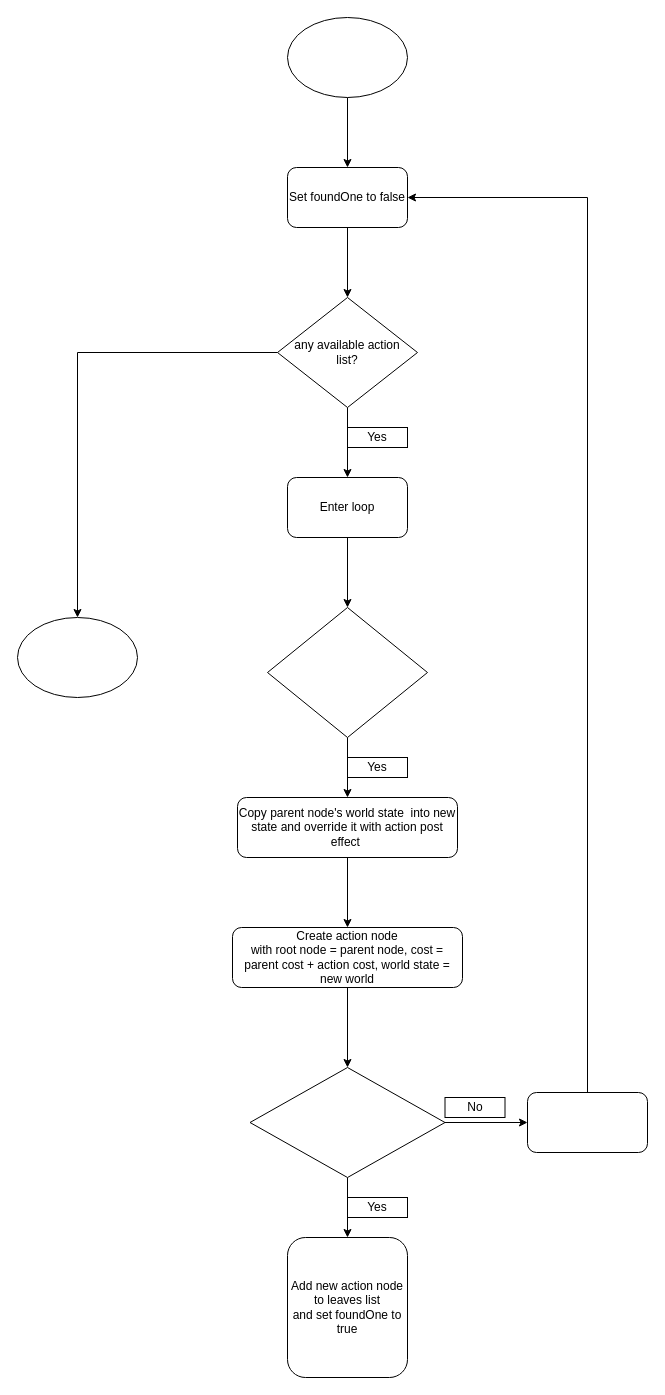
This 665x1395 diagram has some shape labels left out. Here are the shapes that lost their labels. From the top down, the centre of each, then its label:
At (x=347, y=57): "Start".
At (x=77, y=657): "Return foundOne and End".
At (x=347, y=672): "action preconditions and parent node world state match?".
At (x=347, y=1122): "new world state and goal state match?".
At (x=587, y=1122): "Remove this action from available action list".
